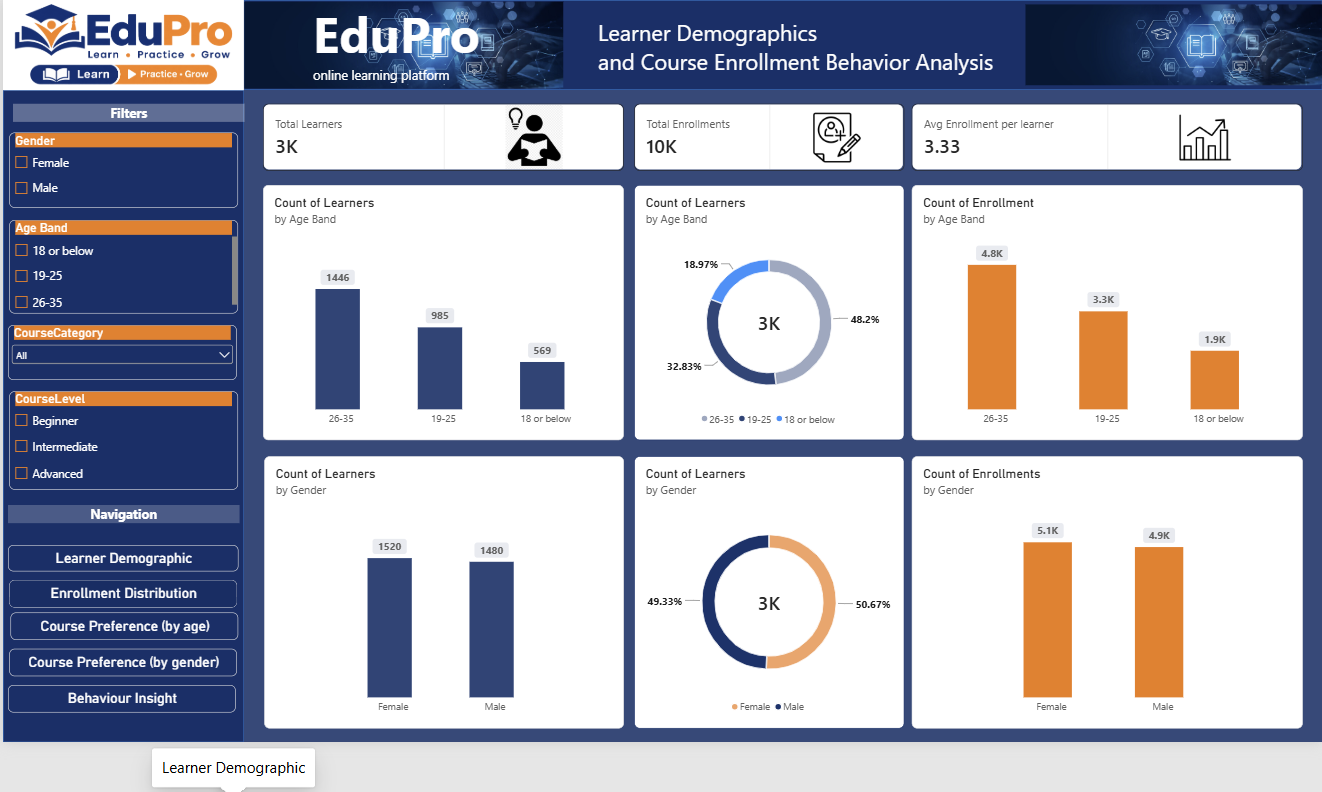

The dashboard page shown, as its layout file describes it:
{"tool":"powerbi","page":{"name":"Learner Demographic","canvas":[1920,1080],"ordinal":0},"visuals":[{"type":"shape","box":[350.6,0,1569.8,130.8],"z":0},{"type":"image","box":[350.6,0,464,130.8],"z":1000},{"type":"columnChart","fields":{"Category":["EduPro Online Platform Users.Age Band"],"Y":["CountNonNull(EduPro Online Platform Users.UserID)"]},"box":[378.5,268.6,525,371.5],"z":2000},{"type":"columnChart","fields":{"Category":["EduPro Online Platform Users.Age Band"],"Y":["CountNonNull(EduPro Online Platform Transactions.TransactionID)"]},"box":[1322.1,268.6,568.6,371.5],"z":3000},{"type":"columnChart","fields":{"Category":["EduPro Online Platform Users.Gender"],"Y":["Count(EduPro Online Platform Users.UserID)"]},"box":[380.2,664.5,523.3,395.9],"z":4000},{"type":"clusteredColumnChart","fields":{"Category":["EduPro Online Platform Users.Gender"],"Y":["Count(EduPro Online Platform Transactions.TransactionID)"]},"box":[1322.1,664.5,568.6,395.9],"z":5000},{"type":"cardVisual","fields":{"Data":["EduPro Online Platform Transactions.Total Enrollments"]},"box":[917.4,150,392.4,97.7],"z":6000},{"type":"cardVisual","fields":{"Data":["Count(EduPro Online Platform Users.UserID)"]},"box":[378.5,150,525,97.7],"z":7000},{"type":"shape","box":[0,130.8,350.6,948.8],"z":8000},{"type":"image","box":[0,0,350.6,130.8],"z":9000},{"type":"slicer","fields":{"Values":["EduPro Online Platform Users.Gender"]},"box":[8.7,191.9,333.1,109.9],"z":10000},{"type":"slicer","fields":{"Values":["EduPro Online Platform Users.Age Band"]},"box":[8.7,319.2,333.1,136],"z":11000},{"type":"slicer","fields":{"Values":["EduPro Online Platform Courses.CourseCategory"]},"box":[7,472.7,333.1,80.2],"z":12000},{"type":"slicer","fields":{"Values":["EduPro Online Platform Courses.CourseLevel"]},"box":[8.7,568.6,333.1,143],"z":13000},{"type":"textbox","box":[865.1,26.2,941.9,97.7],"z":14000},{"type":"image","box":[1487.8,0,432.6,130.8],"z":15000},{"type":"textbox","box":[450,0,334.9,150],"z":16000},{"type":"textbox","box":[14,150,336.6,26.2],"z":17000},{"type":"textbox","box":[7,734.3,336.6,26.2],"z":18000},{"type":"donutChart","fields":{"Category":["EduPro Online Platform Users.Age Band"],"Y":["CountNonNull(EduPro Online Platform Users.UserID)"]},"box":[917.4,268.6,392.4,371.5],"z":19000},{"type":"donutChart","fields":{"Category":["EduPro Online Platform Users.Gender"],"Y":["Count(EduPro Online Platform Users.UserID)"]},"box":[917.4,664.5,392.4,395.9],"z":20000},{"type":"cardVisual","fields":{"Data":["EduPro Online Platform Courses.Avg Course taken per learner"]},"box":[1322.1,150,568.6,97.7],"z":21000},{"type":"actionButton","title":"Enrollment Distribution","box":[8.7,844.2,331.4,40.1],"z":22000},{"type":"actionButton","title":"Learner Demographic","box":[7,793.6,334.9,38.4],"z":23000},{"type":"actionButton","title":"Course Preference (by age)","box":[10.5,891.3,331.4,40.1],"z":24000},{"type":"actionButton","title":"Course Preference (by gender)","box":[8.7,943.6,331.4,40.1],"z":25000},{"type":"actionButton","title":"Behaviour Insight","box":[7,995.9,331.4,40.1],"z":26001}]}

Visuals, with their boxes on the page's 1920x1080 design canvas (x1, y1, x2, y2). These are canvas units, not pixel positions in the 1322x792 screenshot, which may show the page scaled, cropped or inside an application window:
shape: crop(351, 0, 1920, 131)
image: crop(351, 0, 815, 131)
columnChart - EduPro Online Platform Users.Age Band x CountNonNull(EduPro Online Platform Users.UserID): crop(378, 269, 904, 640)
columnChart - EduPro Online Platform Users.Age Band x CountNonNull(EduPro Online Platform Transactions.TransactionID): crop(1322, 269, 1891, 640)
columnChart - EduPro Online Platform Users.Gender x Count(EduPro Online Platform Users.UserID): crop(380, 664, 904, 1060)
clusteredColumnChart - EduPro Online Platform Users.Gender x Count(EduPro Online Platform Transactions.TransactionID): crop(1322, 664, 1891, 1060)
cardVisual - EduPro Online Platform Transactions.Total Enrollments: crop(917, 150, 1310, 248)
cardVisual - Count(EduPro Online Platform Users.UserID): crop(378, 150, 904, 248)
shape: crop(0, 131, 351, 1080)
image: crop(0, 0, 351, 131)
slicer - EduPro Online Platform Users.Gender: crop(9, 192, 342, 302)
slicer - EduPro Online Platform Users.Age Band: crop(9, 319, 342, 455)
slicer - EduPro Online Platform Courses.CourseCategory: crop(7, 473, 340, 553)
slicer - EduPro Online Platform Courses.CourseLevel: crop(9, 569, 342, 712)
textbox: crop(865, 26, 1807, 124)
image: crop(1488, 0, 1920, 131)
textbox: crop(450, 0, 785, 150)
textbox: crop(14, 150, 351, 176)
textbox: crop(7, 734, 344, 760)
donutChart - EduPro Online Platform Users.Age Band x CountNonNull(EduPro Online Platform Users.UserID): crop(917, 269, 1310, 640)
donutChart - EduPro Online Platform Users.Gender x Count(EduPro Online Platform Users.UserID): crop(917, 664, 1310, 1060)
cardVisual - EduPro Online Platform Courses.Avg Course taken per learner: crop(1322, 150, 1891, 248)
"Enrollment Distribution" actionButton: crop(9, 844, 340, 884)
"Learner Demographic" actionButton: crop(7, 794, 342, 832)
"Course Preference (by age)" actionButton: crop(10, 891, 342, 931)
"Course Preference (by gender)" actionButton: crop(9, 944, 340, 984)
"Behaviour Insight" actionButton: crop(7, 996, 338, 1036)
